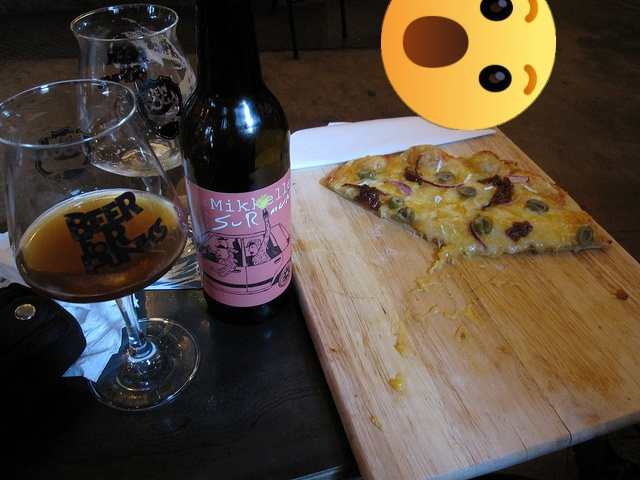wow: (381, 0, 556, 130)
